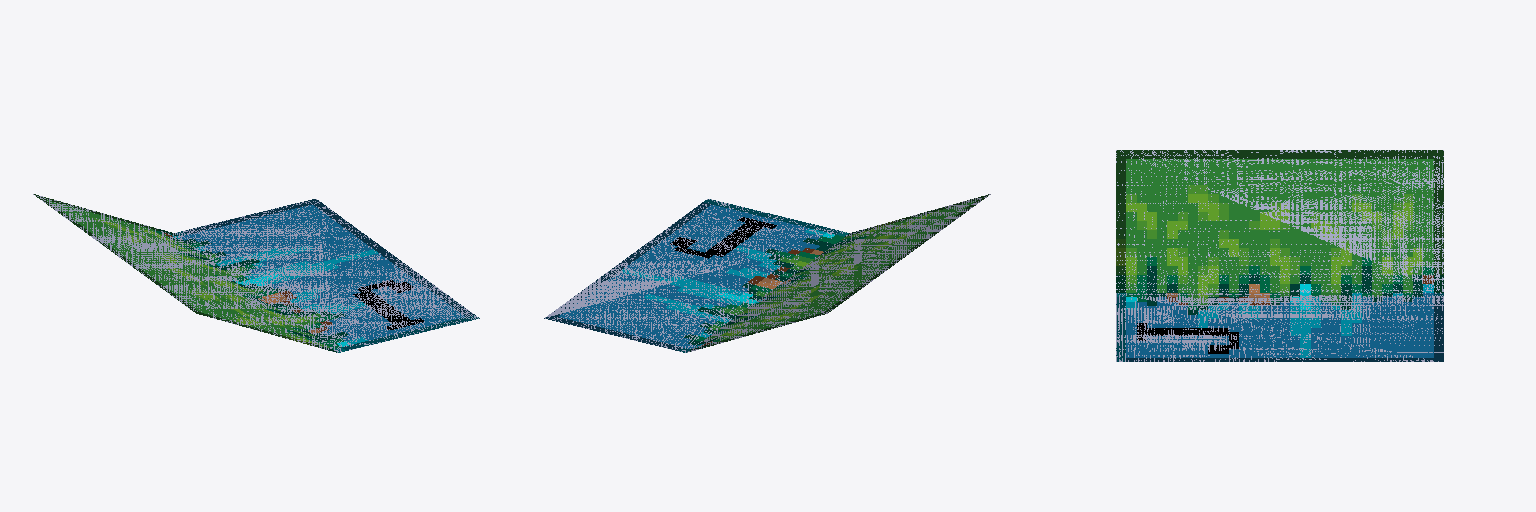
3 renders of one model, left to right at view 1: azimuth 30°, elevation 25°; view 2: azimuth 150°, elevation 25°; view 3: azimuth 270°, elevation 25°, orthographic.
Parts seen in each view (by area): view 1: Mesh1 Model; view 2: Mesh1 Model; view 3: Mesh1 Model.
Boxes of the visible parts, <box> form: Mesh1 Model: <box>33,194,479,352</box>; Mesh1 Model: <box>544,194,990,352</box>; Mesh1 Model: <box>1116,150,1443,361</box>.
Size of the model in its own units: 32 by 8 by 32.
Materials: 2 (1 with a texture image).